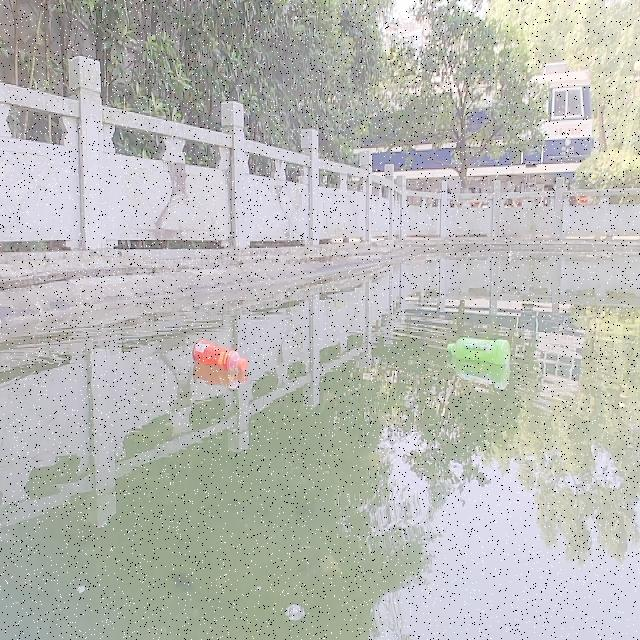bottle: (443, 334, 513, 366), (191, 335, 248, 372)
